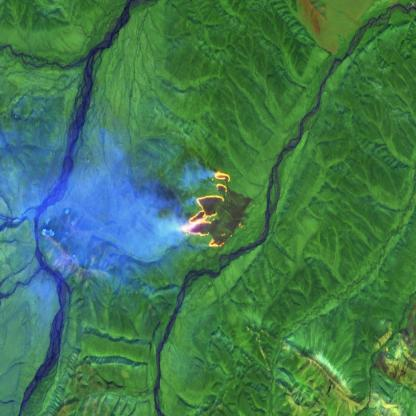fire: (175, 165, 248, 252)
